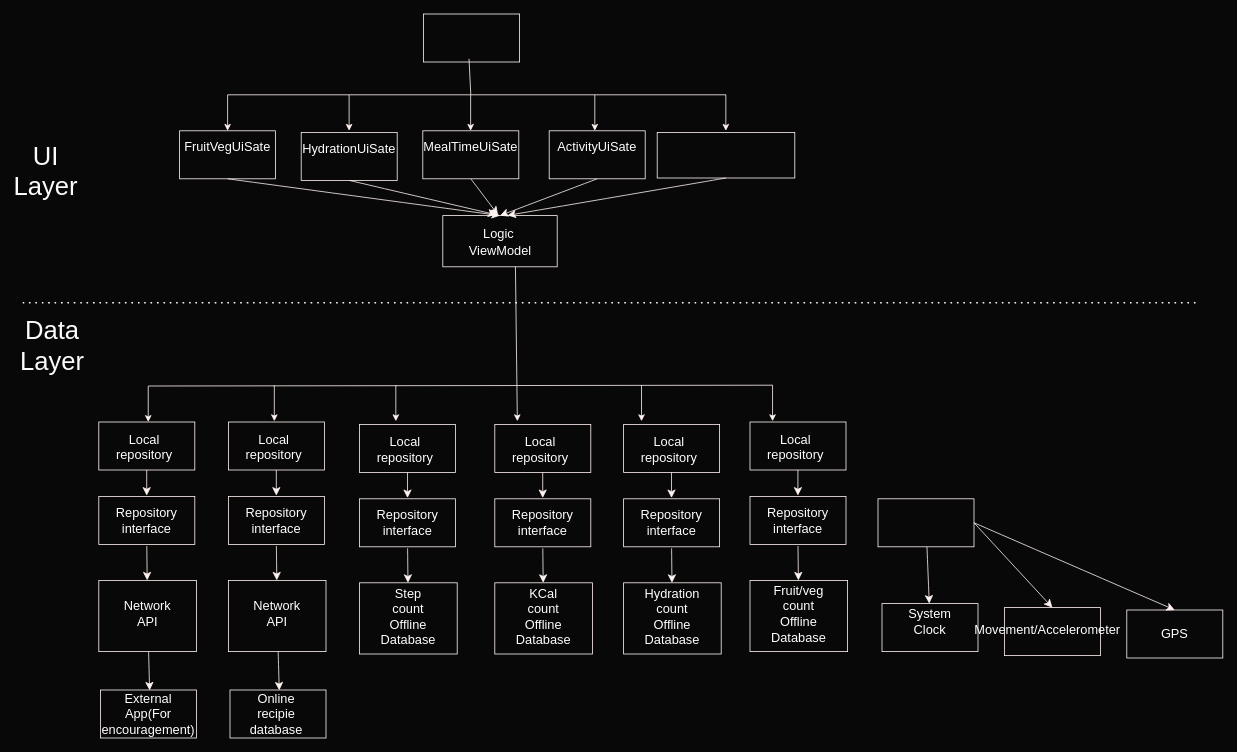
Some shapes in this 1237 by 752 pixel diagram are drawn without their labels. The shapes that lost their labels are listed below. From the top down, each one's centre as x and y in pixels, then its label:
(x=471, y=37): Main Screen
(x=725, y=155): EncouragementUiState
(x=925, y=522): Android Runtime
